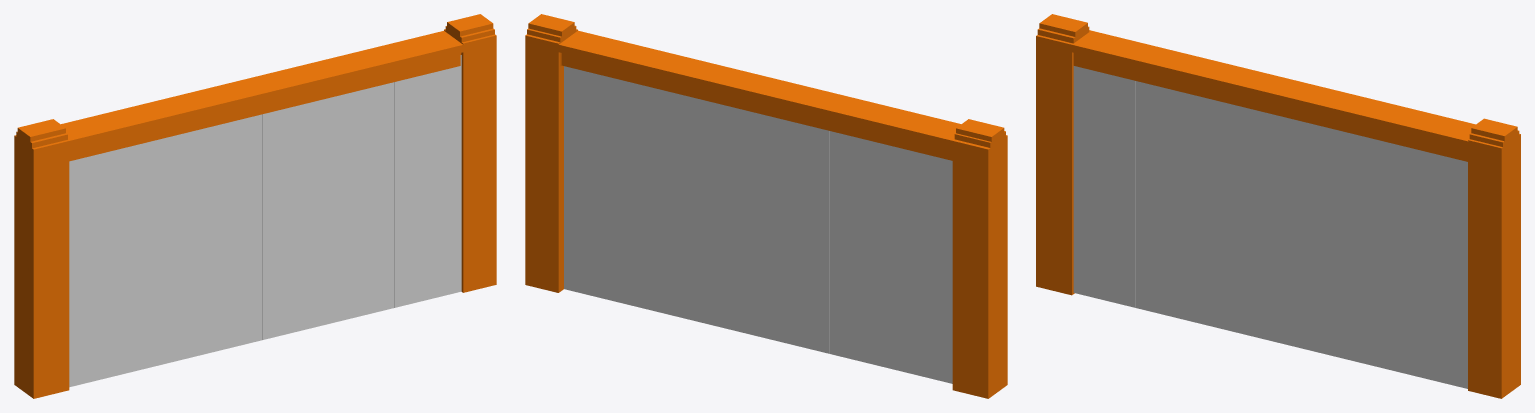
Rendered from Fence.fbx.
The picture shows the model from 3 angles, left to right: view 1: azimuth 30°, elevation 25°; view 2: azimuth 150°, elevation 25°; view 3: azimuth 330°, elevation 25°; orthographic projection.
Visible parts, largest first — view 1: Cube, Cube.001, Cube.003, Cube.007, Cube.012, Cube.002, Cube.009, Cube.010, Cube.011, Cube.004, Cube.005, Cube.008 (+2 smaller); view 2: Cube, Cube.001, Cube.011, Cube.004, Cube.008, Cube.009, Cube.007, Cube.012, Cube.003, Cube.010, Cube.002, Cube.006 (+2 smaller); view 3: Cube, Cube.001, Cube.012, Cube.004, Cube.007, Cube.011, Cube.008, Cube.010, Cube.003, Cube.005, Cube.009, Cube.006 (+2 smaller).
Part boxes in pixels (bbox=[...]): Cube: bbox=[14, 31, 464, 398]; Cube.001: bbox=[444, 14, 496, 292]; Cube.003: bbox=[394, 74, 428, 307]; Cube.007: bbox=[262, 106, 296, 339]; Cube.012: bbox=[95, 147, 129, 380]; Cube.002: bbox=[428, 55, 461, 299]; Cube.009: bbox=[196, 122, 229, 356]; Cube.010: bbox=[162, 130, 195, 364]; Cube.011: bbox=[129, 138, 162, 372]; Cube.004: bbox=[361, 82, 394, 315]; Cube.005: bbox=[328, 90, 361, 323]; Cube.008: bbox=[229, 114, 262, 347]; Cube: bbox=[558, 30, 1007, 398]; Cube.001: bbox=[525, 14, 577, 292]; Cube.011: bbox=[862, 139, 896, 369]; Cube.004: bbox=[630, 82, 664, 313]; Cube.008: bbox=[762, 114, 796, 345]; Cube.009: bbox=[796, 122, 829, 353]; Cube.007: bbox=[729, 106, 762, 337]; Cube.012: bbox=[896, 147, 929, 378]; Cube.003: bbox=[597, 74, 630, 305]; Cube.010: bbox=[829, 131, 862, 361]; Cube.002: bbox=[564, 66, 597, 297]; Cube.006: bbox=[696, 98, 729, 329]; Cube: bbox=[1036, 14, 1475, 295]; Cube.001: bbox=[1468, 118, 1520, 398]; Cube.012: bbox=[1101, 72, 1135, 307]; Cube.004: bbox=[1368, 138, 1402, 372]; Cube.007: bbox=[1269, 113, 1303, 348]; Cube.011: bbox=[1135, 81, 1169, 315]; Cube.008: bbox=[1236, 105, 1269, 340]; Cube.010: bbox=[1169, 89, 1202, 324]; Cube.003: bbox=[1402, 146, 1435, 380]; Cube.005: bbox=[1335, 129, 1368, 364]; Cube.009: bbox=[1202, 97, 1235, 332]; Cube.006: bbox=[1303, 122, 1336, 356].
Bounding box in the file's own units: 389 × 209 × 28.17.
